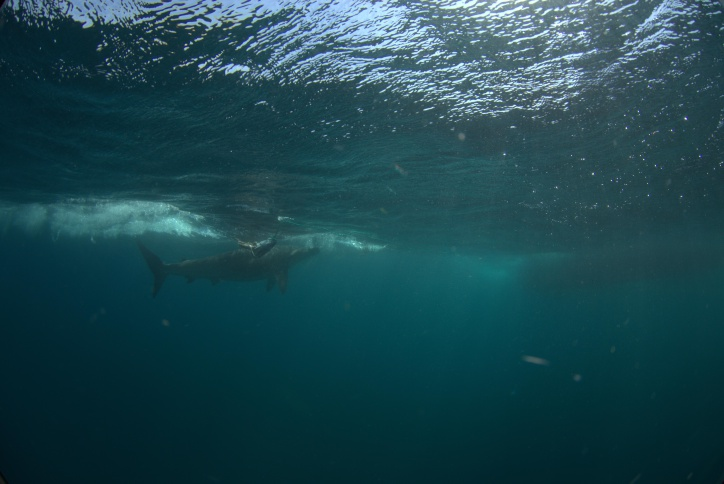Hammer: (162, 133, 424, 264), (139, 221, 336, 304)
